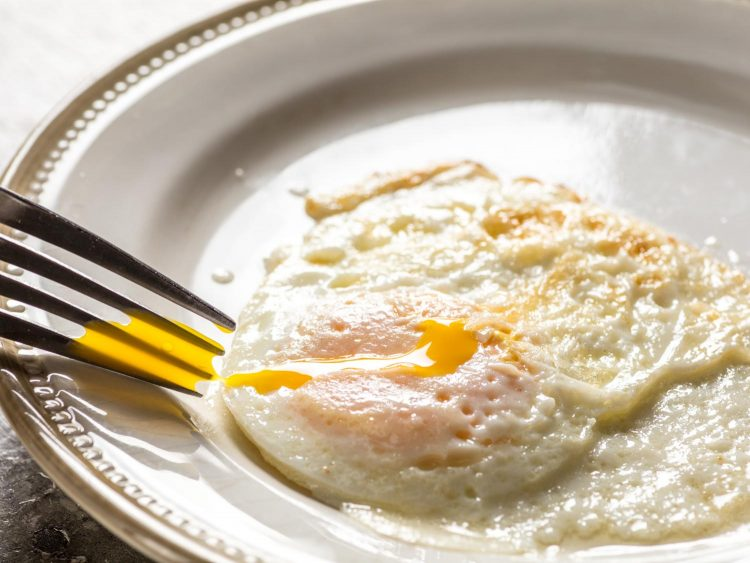fried egg: (208, 193, 746, 530)
